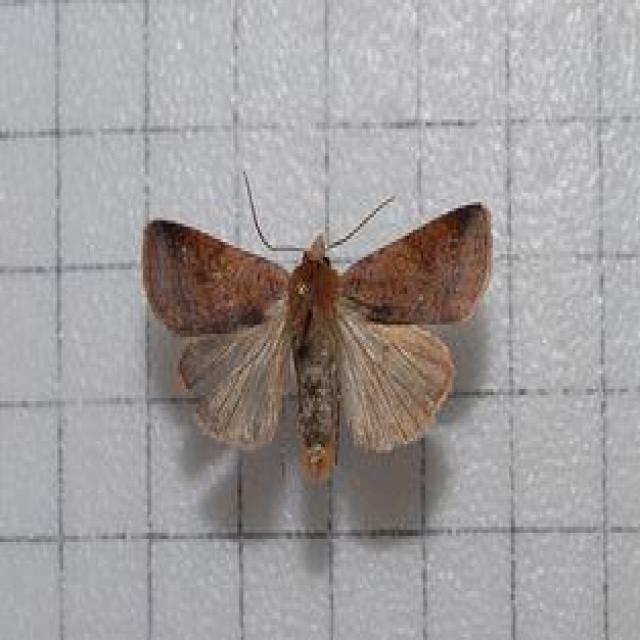BeetArmyWorm-Adult-: (118, 148, 510, 518)
